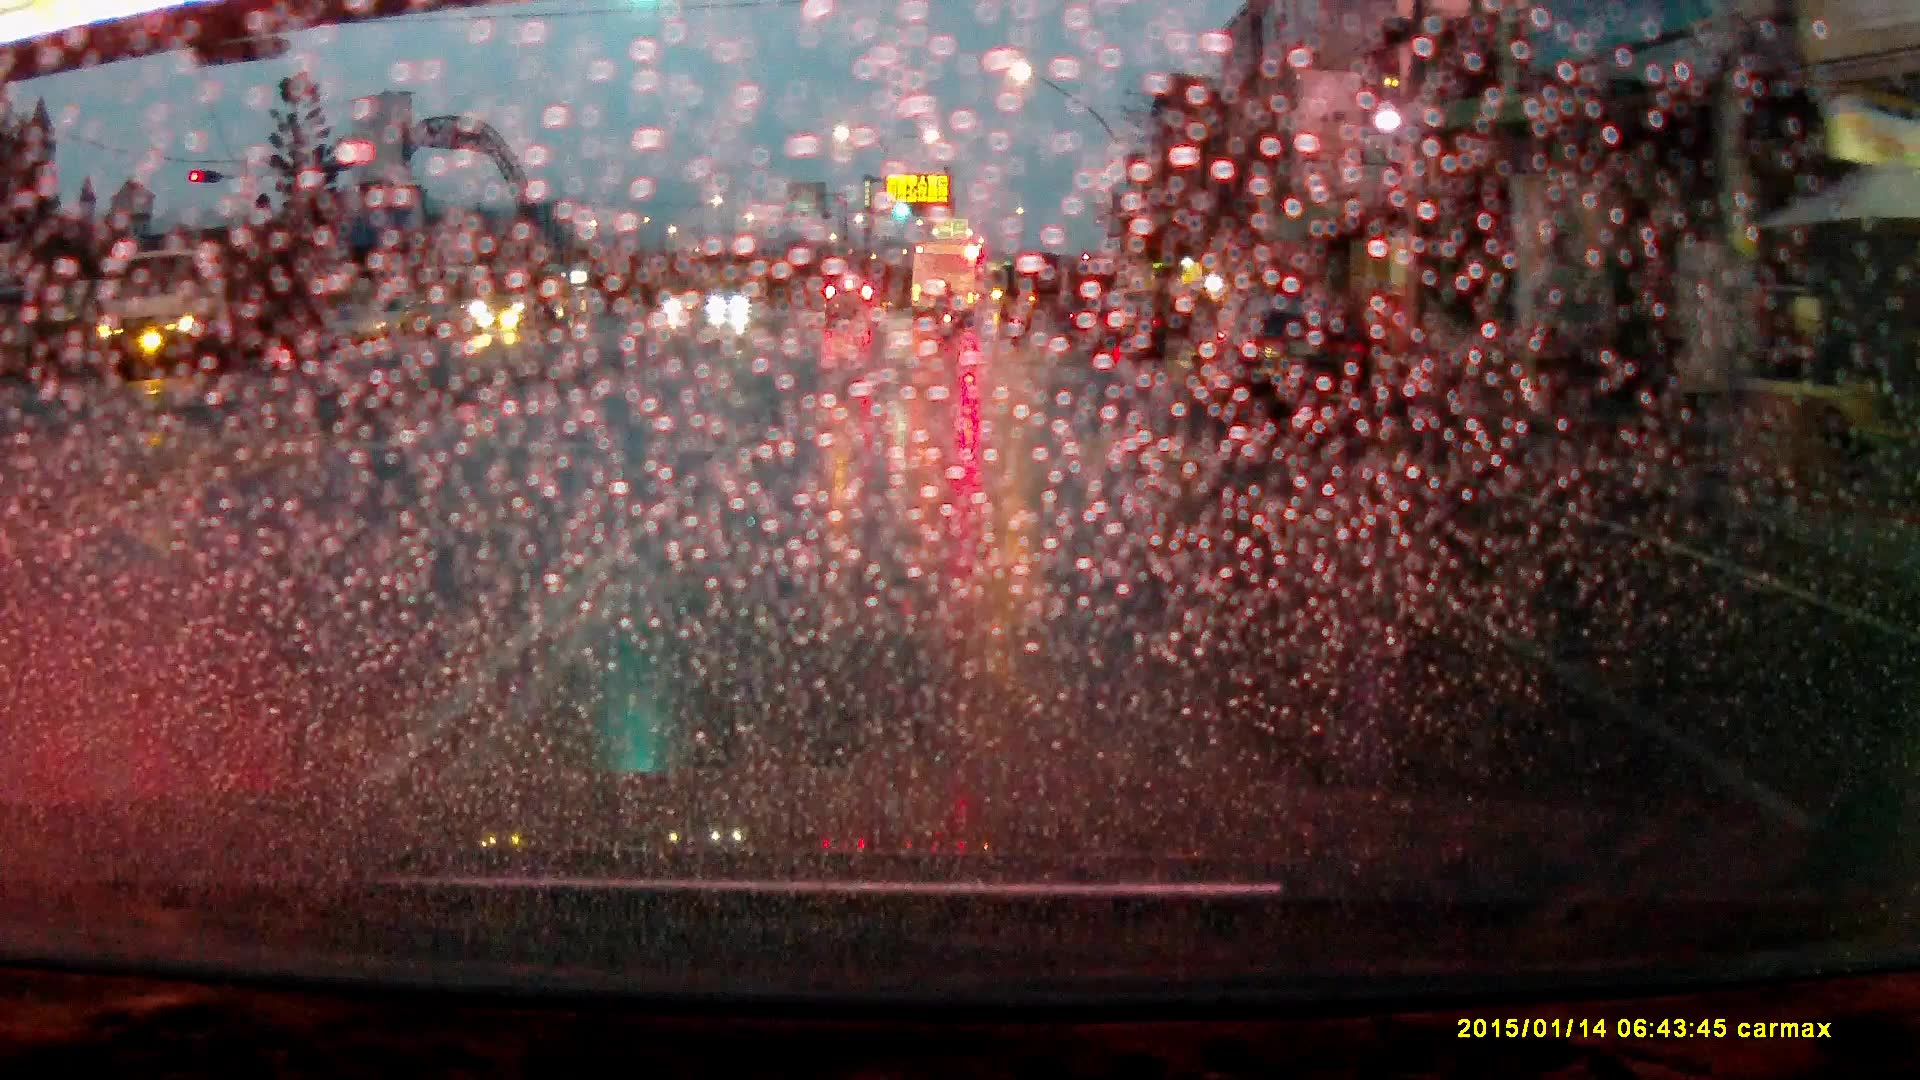rider: (935, 289, 963, 351)
vehicle: (89, 249, 299, 381), (1194, 311, 1382, 424), (472, 264, 577, 340), (911, 243, 980, 330), (1085, 303, 1168, 360), (824, 286, 883, 334), (706, 293, 753, 322)
